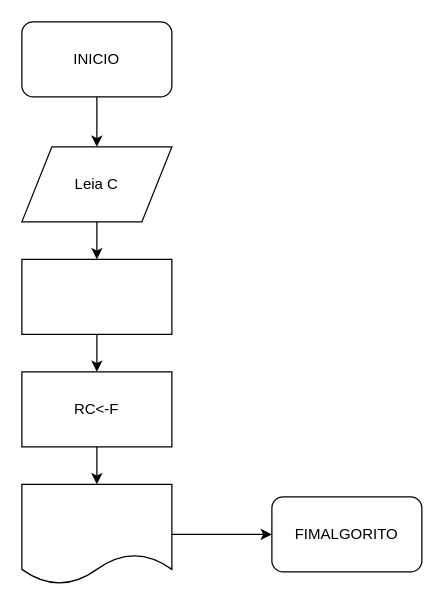
The diagram is 444 pixels wide and 606 high, and some of its shapes have lost their labels. The box of each missing label's shape, as (x1, y1, x2, y2) in pixels:
F<-(9*C+160)/5: (21, 258, 172, 334)
RC: (21, 483, 172, 584)
